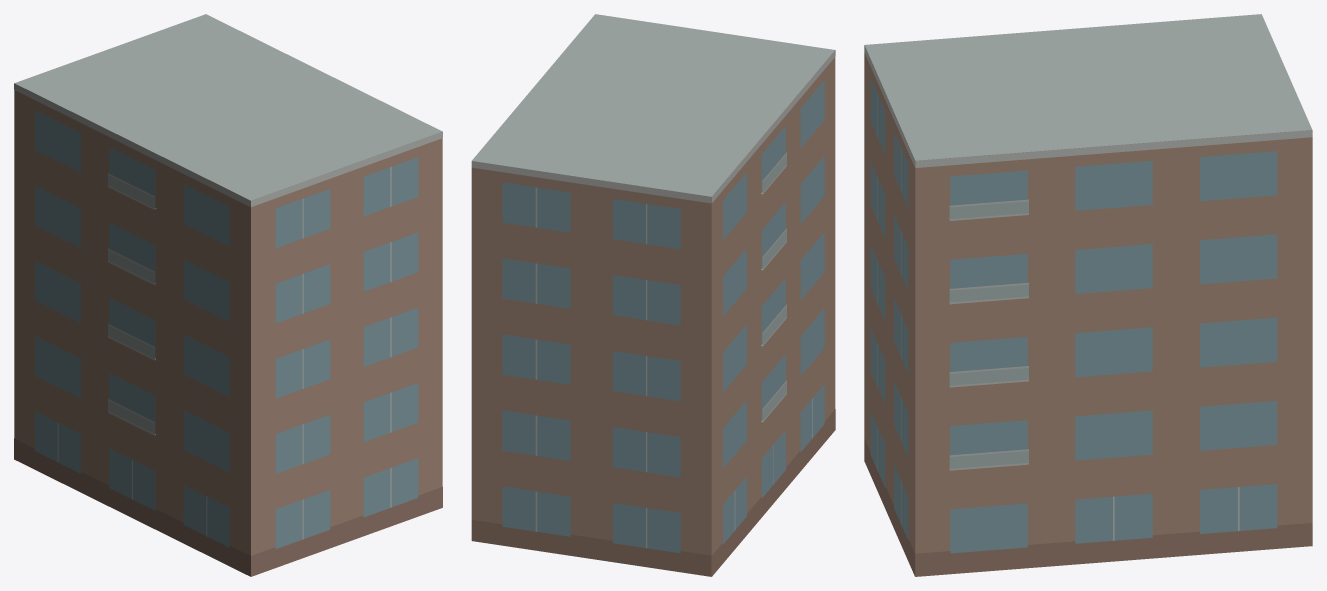
The model's file is survey-upis-32881935.glb.
3 views of the same model, side by side, from view 1: azimuth 30°, elevation 25°; view 2: azimuth 150°, elevation 25°; view 3: azimuth 270°, elevation 25° (orthographic). The views are drawn at different scales.
Parts seen in each view (by area): view 1: survey-upis-32881935.tmp; view 2: survey-upis-32881935.tmp; view 3: survey-upis-32881935.tmp.
Part boxes in pixels (x1=…): survey-upis-32881935.tmp: x1=14, y1=14, x2=442, y2=576; survey-upis-32881935.tmp: x1=471, y1=14, x2=835, y2=576; survey-upis-32881935.tmp: x1=864, y1=14, x2=1312, y2=576.
Bounding box in the file's own units: 10.52 × 13.9 × 13.58.
